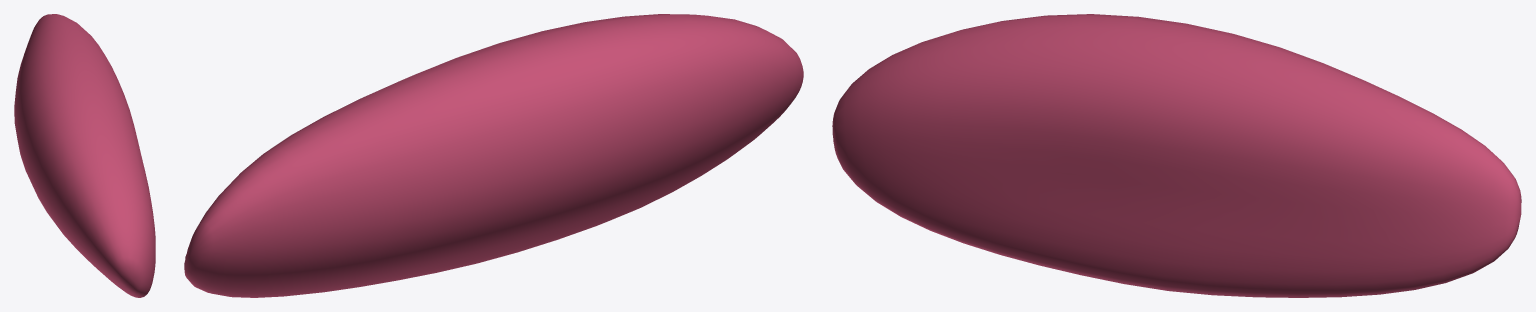
3 renders of one model, left to right at view 1: azimuth 30°, elevation 25°; view 2: azimuth 150°, elevation 25°; view 3: azimuth 270°, elevation 25°, orthographic. The views are drawn at different scales.
Visible parts, largest first — view 1: 左侧大圆肌腱下囊; view 2: 左侧大圆肌腱下囊; view 3: 左侧大圆肌腱下囊.
Part boxes in pixels (x1,y1,x2,y2): 左侧大圆肌腱下囊: (14,14,155,297); 左侧大圆肌腱下囊: (184,14,803,297); 左侧大圆肌腱下囊: (832,14,1521,297).
Bounding box in the file's own units: 0.018 × 0.014 × 0.0385.
